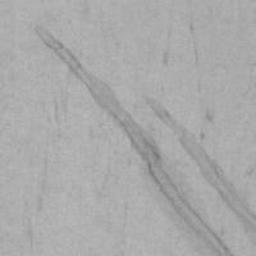Water spot: (33, 23, 237, 256), (145, 96, 256, 250)
